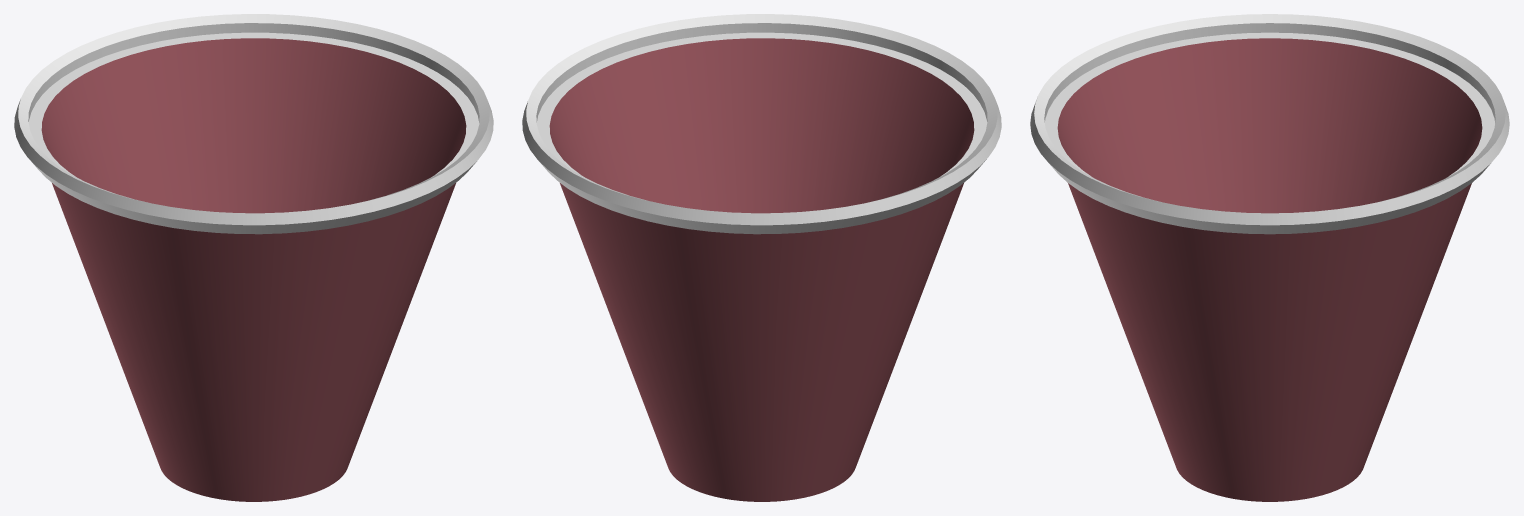
File: cup18.glb
The picture shows the model from 3 angles, left to right: view 1: azimuth 30°, elevation 25°; view 2: azimuth 150°, elevation 25°; view 3: azimuth 270°, elevation 25°; orthographic projection.
Visible parts, largest first — view 1: Cup18.001; view 2: Cup18.001; view 3: Cup18.001.
Part boxes in pixels (x1,y1,x2,y2): Cup18.001: [14, 14, 493, 501]; Cup18.001: [522, 14, 1001, 501]; Cup18.001: [1030, 14, 1509, 501].
Size of the model in its own units: 2.99 by 2.4 by 2.99.
